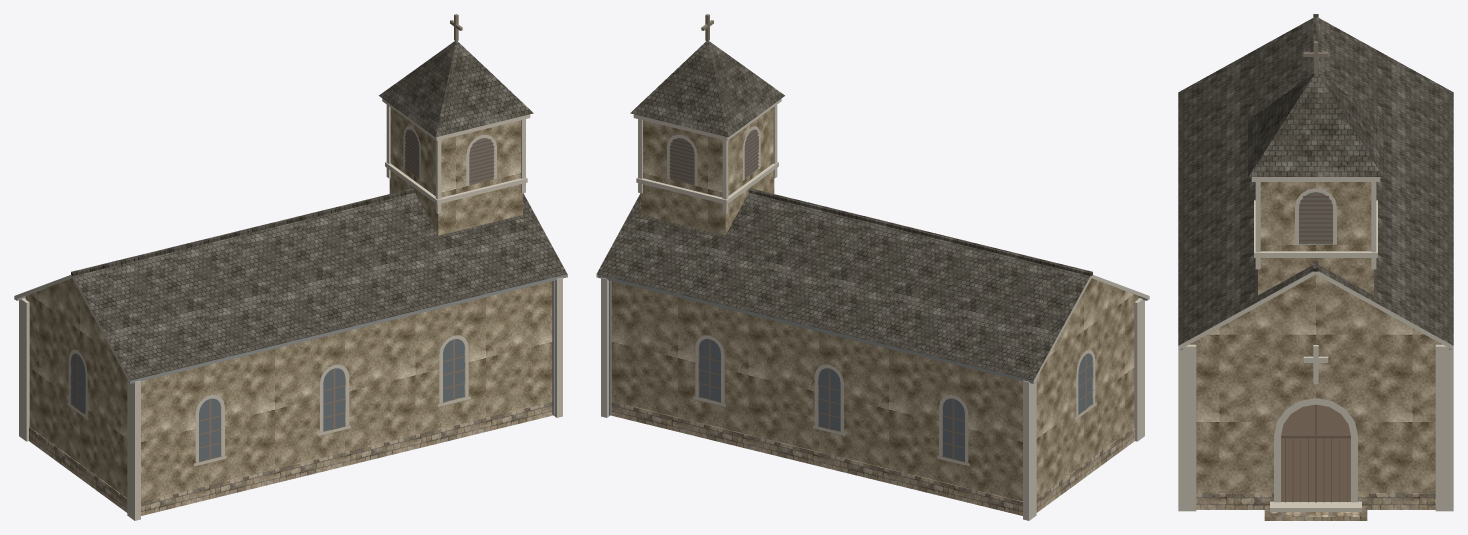
Rendered from church.glb.
The picture shows the model from 3 angles, left to right: view 1: azimuth 30°, elevation 25°; view 2: azimuth 150°, elevation 25°; view 3: azimuth 270°, elevation 25°; orthographic projection. The views are drawn at different scales.
Visible parts, largest first — view 1: plaster, roof_tiles, trim, stone, glass, metal, louver, wood, wood_dark; view 2: plaster, roof_tiles, trim, stone, glass, metal, louver, wood, wood_dark; view 3: roof_tiles, plaster, trim, wood, stone, wood_dark, louver.
Boxes of the visible parts, box(x1,y1,x2,y2) form: plaster: box(25, 108, 552, 501); roof_tiles: box(47, 41, 567, 380); trim: box(14, 98, 567, 520); stone: box(29, 401, 552, 515); glass: box(71, 339, 464, 461); metal: box(15, 274, 566, 415); louver: box(406, 129, 493, 184); wood: box(70, 340, 465, 459); wood_dark: box(405, 130, 494, 182); plaster: box(611, 108, 1138, 501); roof_tiles: box(596, 41, 1116, 380); trim: box(596, 98, 1149, 520); stone: box(611, 401, 1134, 515); glass: box(699, 339, 1092, 461); metal: box(597, 274, 1148, 415); louver: box(670, 129, 757, 184); wood: box(698, 340, 1093, 459); wood_dark: box(669, 130, 758, 182); roof_tiles: box(1178, 14, 1453, 345); plaster: box(1189, 182, 1442, 492); trim: box(1178, 177, 1453, 511); wood: box(1281, 404, 1350, 501); stone: box(1196, 493, 1435, 520); wood_dark: box(1281, 196, 1350, 502); louver: box(1299, 192, 1332, 244).
Size of the model in its own units: 19.18 by 15.12 by 8.56.
Materials: 10 (3 with a texture image).
